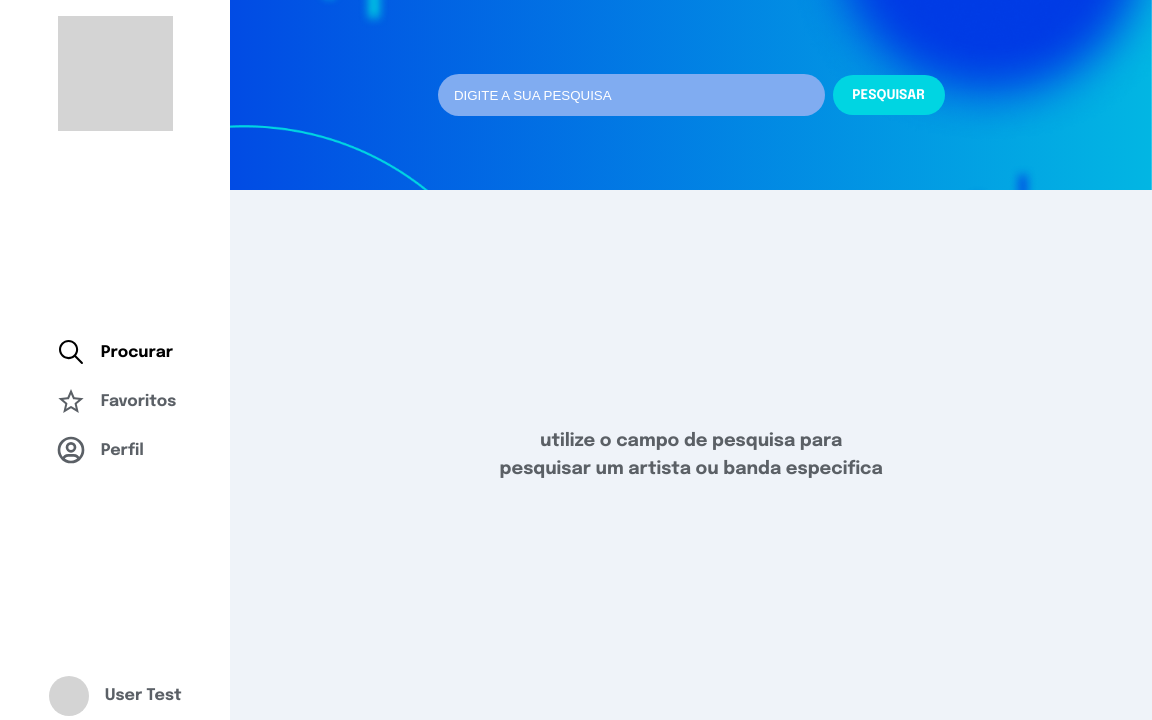
Testando os links de navegação no cabeçalho › Testando se a navegação entre a página de pesquisa e a página de exibição do perfil ocorre corretamente
Click the link with test id "link-to-profile" at coordinates (99, 450), box [55,434,144,466]
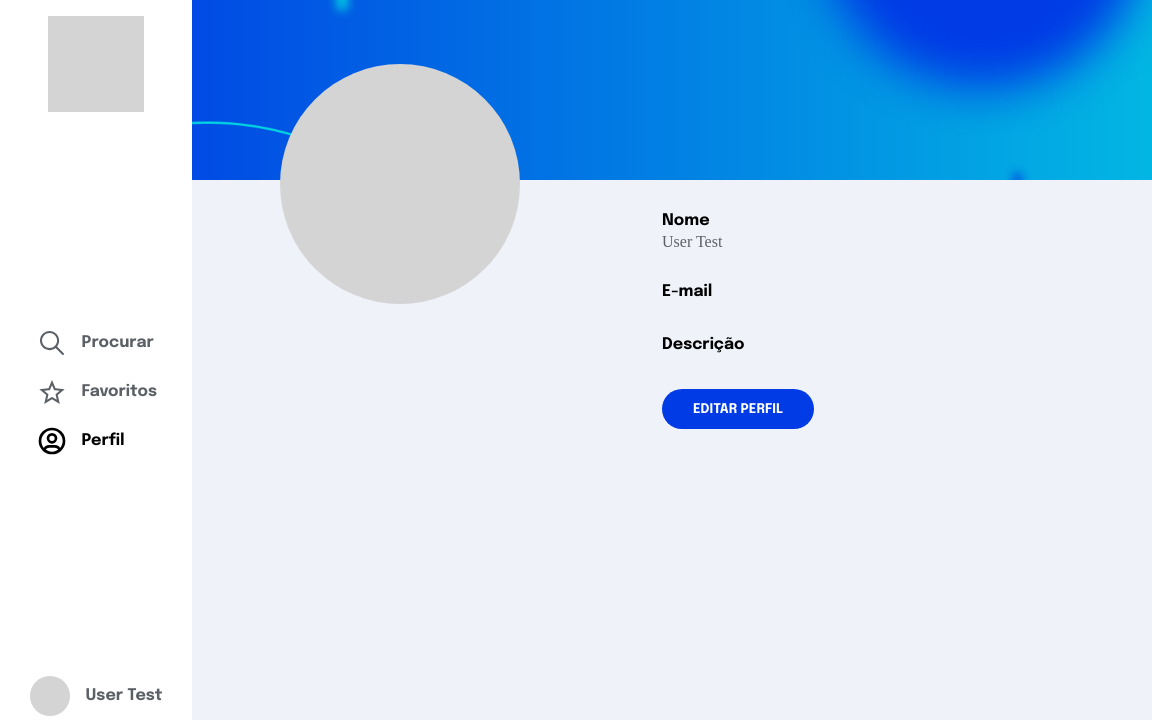
Expected: the element with test id "page-profile" is shown, [192,0,1151,429]
